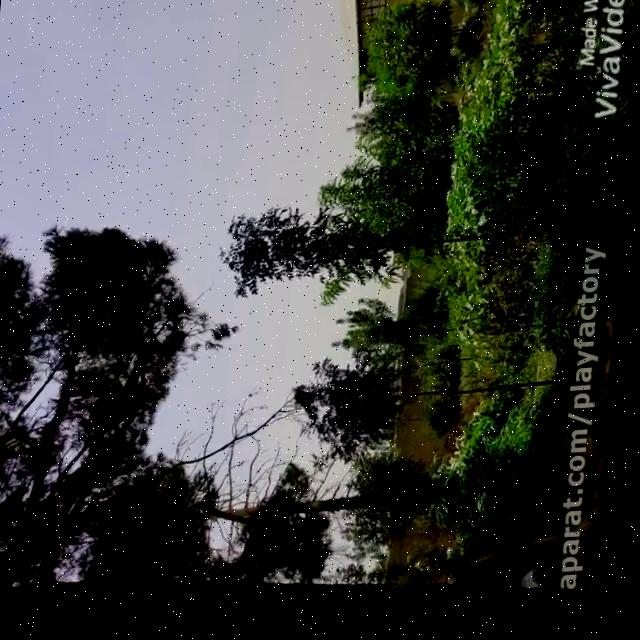drone: (213, 245, 230, 266)
